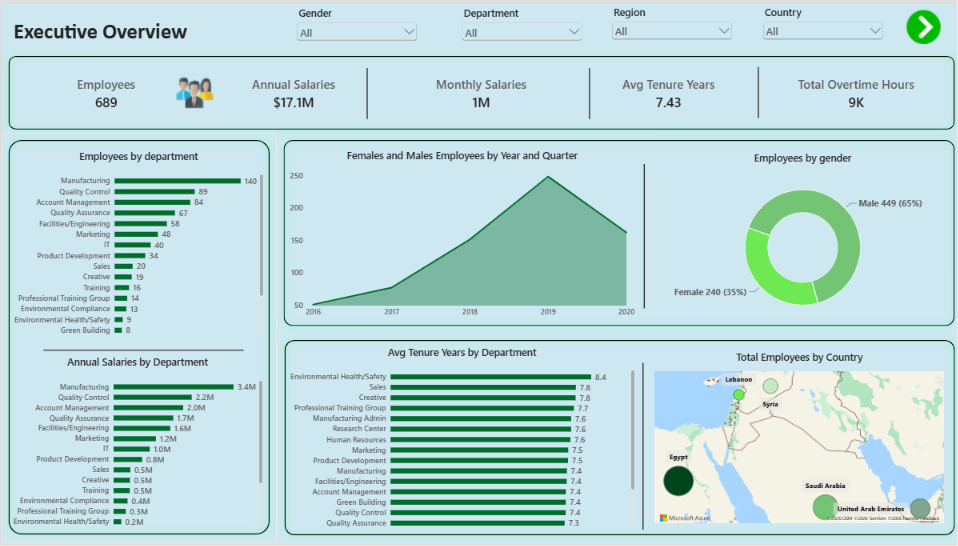

Layout of this report page (visuals, bound fields, positions):
{"tool":"powerbi","page":{"name":"Executive Overview","canvas":[1920,1080],"ordinal":0},"visuals":[{"type":"textbox","box":[23.3,26.7,443.3,63.3],"z":0,"group":"g1"},{"type":"shape","box":[1506.7,126.7,15,101.7],"z":0},{"type":"slicer","fields":{"Values":["dim_location.department_country"]},"box":[1518.8,1.6,250,80],"z":1000,"group":"g1"},{"type":"slicer","fields":{"Values":["dim_department.department"]},"box":[915.5,4.9,250,80],"z":1000},{"type":"slicer","fields":{"Values":["dim_employee.gender"]},"box":[585.5,4.9,250,80],"z":2000},{"type":"shape","box":[0,90,1920,175],"z":2000,"group":"g1"},{"type":"group","id":"g1","title":"Group 1","box":[0,1.6,1920,1075.1],"z":3000},{"type":"cardVisual","fields":{"Data":["_measures.Total Employees","_measures.Total Company Yearly Salaries","_measures.Total Company Monthly Salaries","_measures.Avg Tenure Years","_measures.Total Overtime Hours"]},"box":[23.3,113.3,1873.3,130],"z":3000,"group":"g1"},{"type":"image","box":[335,140,100,75],"z":4000,"group":"g1"},{"type":"barChart","title":"Avg Tenure Years by Department","fields":{"Category":["dim_department.department"],"Y":["_measures.Avg Tenure Years"]},"box":[576,682,690,370],"z":4000},{"type":"image","box":[1810,12,68,68],"z":4001},{"type":"shape","box":[1160,126.7,31.7,101.7],"z":5000,"group":"g1"},{"type":"shape","box":[721.7,126.7,18.3,101.7],"z":6000,"group":"g1"},{"type":"slicer","fields":{"Values":["dim_location.department_region"]},"box":[1215.5,1.6,250,80],"z":9000,"group":"g1"},{"type":"shape","box":[0,258.3,550,816.7],"z":10000,"group":"g1"},{"type":"barChart","fields":{"Category":["dim_department.department"],"Y":["_measures.Total Employees"]},"box":[23.3,290,500,376.7],"z":11000,"group":"g1"},{"type":"shape","box":[84.9,681,399.9,20.8],"z":12000,"group":"g1"},{"type":"barChart","title":"Annual Salaries by Department","fields":{"Category":["dim_department.department"],"Y":["_measures.Total Company Yearly Salaries"]},"box":[22.6,701.8,499.9,347.1],"z":13000,"group":"g1"},{"type":"shape","box":[550,258.3,1370,400],"z":14000,"group":"g1"},{"type":"lineChart","title":"Females and Males Employees by Year and Quarter","fields":{"Category":["dim_date.Date.Variation.Date Hierarchy.Year","dim_date.Date.Variation.Date Hierarchy.Quarter","dim_date.Date.Variation.Date Hierarchy.Month"],"Y":["_measures.Total Employees"]},"box":[576.7,286.7,690.4,343.3],"z":15000,"group":"g1"},{"type":"shape","box":[1273.3,320,22.6,288.6],"z":16000,"group":"g1"},{"type":"donutChart","fields":{"Category":["dim_employee.gender"],"Y":["_measures.Total Employees"]},"box":[1305,293.3,592.3,343.3],"z":17000,"group":"g1"},{"type":"shape","box":[551.7,658.3,1368.3,418.3],"z":18000,"group":"g1"},{"type":"azureMap","fields":{"Category":["dim_location.department_country"]},"box":[1306,692,579.1,347.1],"z":21000,"group":"g1"},{"type":"shape","box":[1272,718,21.7,333.3],"z":22000,"group":"g1"}]}

Visuals, with their boxes in screenshot pixels (x1, y1, x2, y2), scaled from the page's 1920x1080 canvas onto the 958x546 screenshot:
textbox: x1=12, y1=13, x2=233, y2=46
shape: x1=752, y1=64, x2=759, y2=115
slicer - dim_location.department_country: x1=758, y1=1, x2=883, y2=41
slicer - dim_department.department: x1=457, y1=2, x2=582, y2=43
slicer - dim_employee.gender: x1=292, y1=2, x2=417, y2=43
shape: x1=0, y1=46, x2=957, y2=134
"Group 1" group: x1=0, y1=1, x2=957, y2=544
cardVisual - _measures.Total Employees x _measures.Total Company Yearly Salaries: x1=12, y1=57, x2=946, y2=123
image: x1=167, y1=71, x2=217, y2=109
"Avg Tenure Years by Department" barChart: x1=287, y1=345, x2=632, y2=532
image: x1=903, y1=6, x2=937, y2=40
shape: x1=579, y1=64, x2=595, y2=115
shape: x1=360, y1=64, x2=369, y2=115
slicer - dim_location.department_region: x1=606, y1=1, x2=731, y2=41
shape: x1=0, y1=131, x2=274, y2=543
barChart - dim_department.department x _measures.Total Employees: x1=12, y1=147, x2=261, y2=337
shape: x1=42, y1=344, x2=242, y2=355
"Annual Salaries by Department" barChart: x1=11, y1=355, x2=261, y2=530
shape: x1=274, y1=131, x2=957, y2=333
"Females and Males Employees by Year and Quarter" lineChart: x1=288, y1=145, x2=632, y2=318
shape: x1=635, y1=162, x2=647, y2=308
donutChart - dim_employee.gender x _measures.Total Employees: x1=651, y1=148, x2=947, y2=322
shape: x1=275, y1=333, x2=957, y2=544
azureMap - dim_location.department_country: x1=652, y1=350, x2=941, y2=525
shape: x1=635, y1=363, x2=646, y2=531
